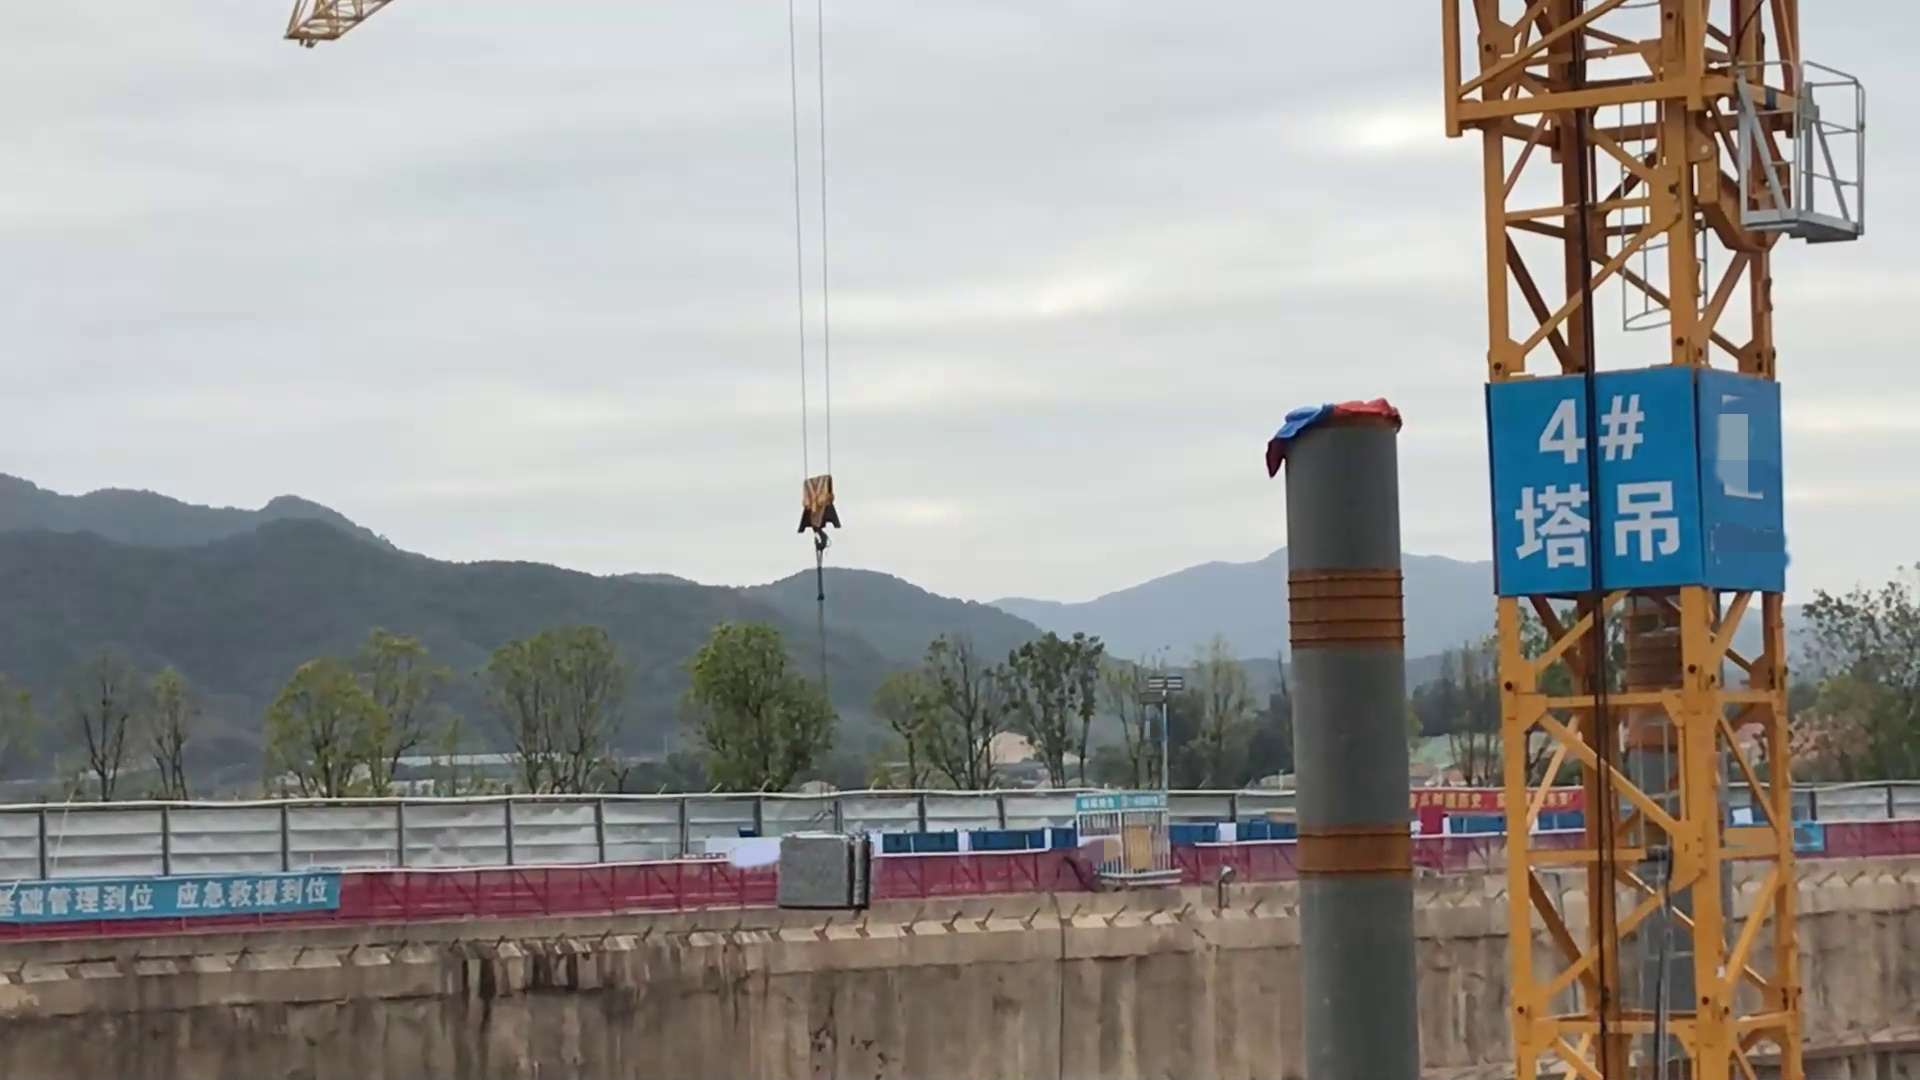fence: (1, 816, 1920, 938)
hook: (793, 469, 851, 553)
scaffold: (781, 827, 880, 920)
slogan: (11, 876, 344, 915), (1412, 785, 1588, 819)
